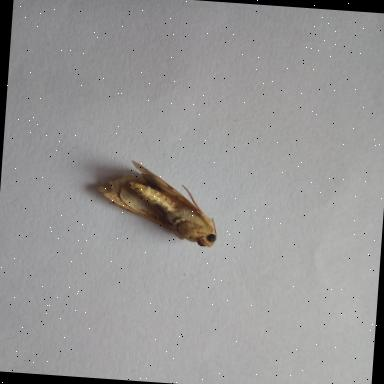abw: (84, 145, 228, 256)
